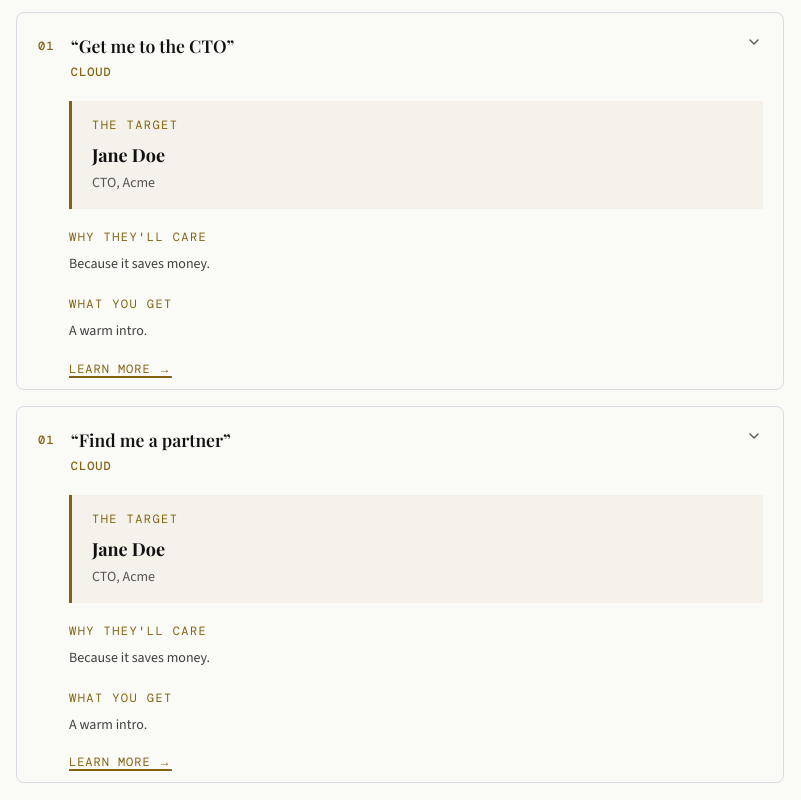
Test: GeniePromptsAccordion › opens one prompt at a time
Click the button "01 “Get me to the CTO” Cloud". click: (153, 46)
box: x1=37 y1=13 x2=763 y2=101
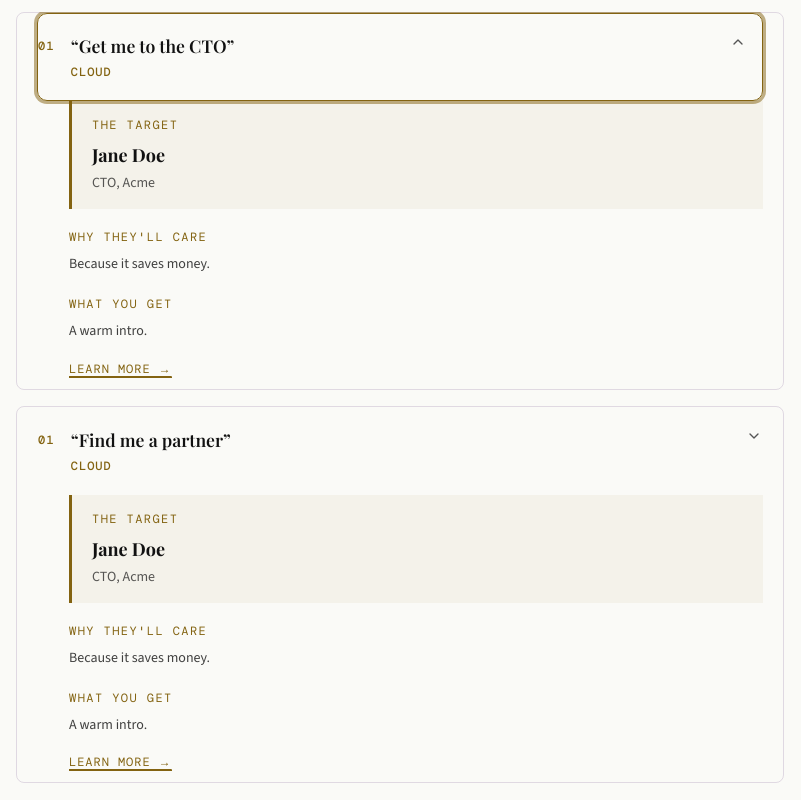
Check: the button "01 “Get me to the CTO” Cloud" is expanded, box x1=37 y1=13 x2=763 y2=101
Click the button "01 “Find me a partner” Cloud". click: (151, 439)
box: x1=37 y1=407 x2=763 y2=495
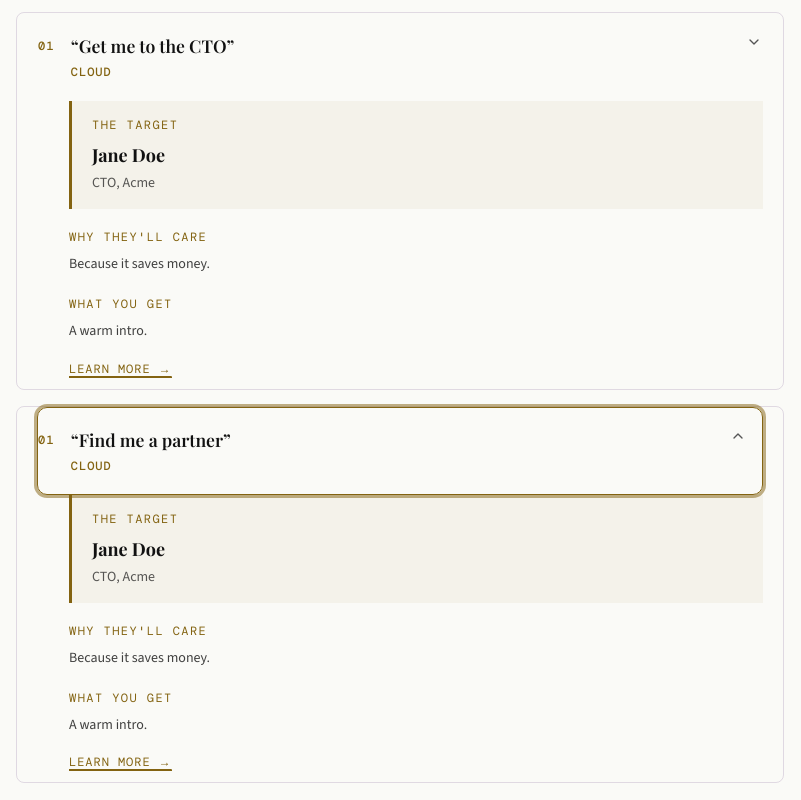
Check: the button "01 “Get me to the CTO” Cloud" is collapsed, box x1=37 y1=13 x2=763 y2=101
